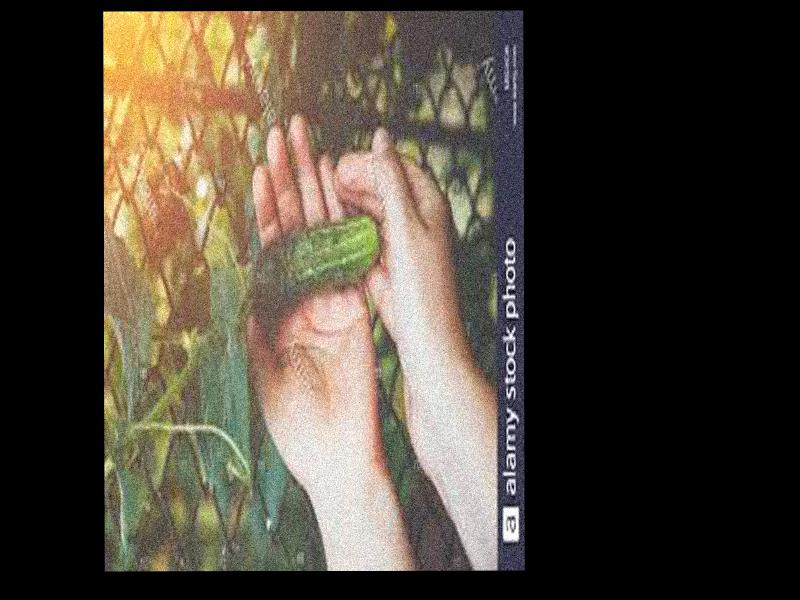Cucumber: (252, 212, 381, 314)
